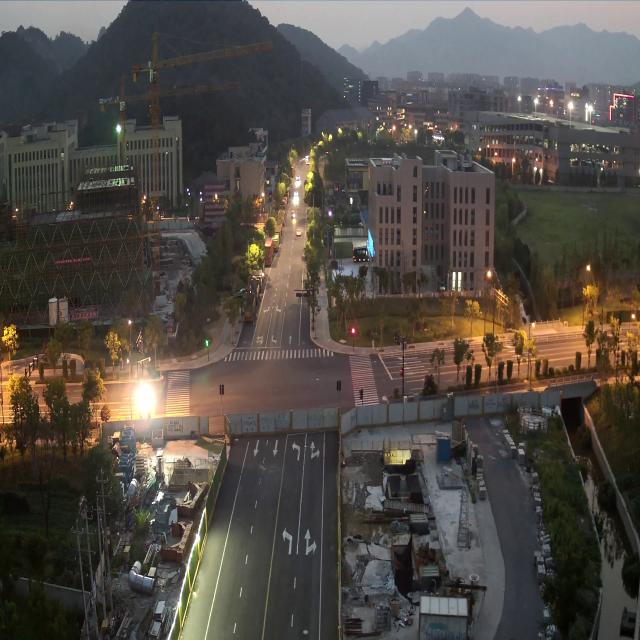drone: (232, 285, 252, 300)
